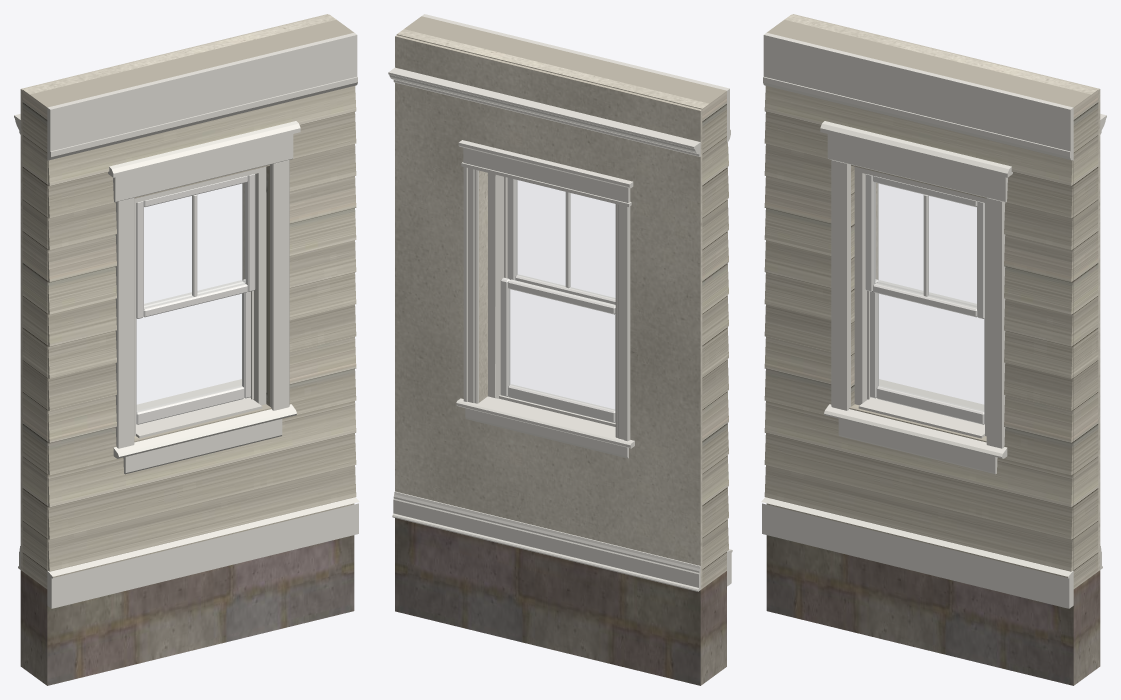
File: h_win0_ns.glb
3 views of the same model, side by side, from view 1: azimuth 30°, elevation 25°; view 2: azimuth 150°, elevation 25°; view 3: azimuth 330°, elevation 25° (orthographic).
Parts seen in each view (by area): view 1: h_win0_ns_siding, h_win0_ns_trim, h_win0_ns_stone, h_win0_ns_glass, folha_glass, h_win0_ns_sash, h_win0_ns_frame, h_win0_ns_plaster, folha_sash, molduras; view 2: h_win0_ns_plaster, h_win0_ns_stone, molduras, h_win0_ns_siding, folha_glass, h_win0_ns_glass, h_win0_ns_frame, folha_sash, h_win0_ns_sash, h_win0_ns_trim; view 3: h_win0_ns_siding, h_win0_ns_trim, h_win0_ns_stone, h_win0_ns_glass, folha_glass, h_win0_ns_sash, h_win0_ns_frame, h_win0_ns_plaster, folha_sash, molduras.
Boxes of the visible parts, left/top/right/bottom form: h_win0_ns_siding: left=22, top=19, right=356, bottom=588; h_win0_ns_trim: left=47, top=32, right=359, bottom=608; h_win0_ns_stone: left=20, top=535, right=354, bottom=685; h_win0_ns_glass: left=144, top=183, right=246, bottom=307; folha_glass: left=137, top=294, right=242, bottom=411; h_win0_ns_sash: left=136, top=174, right=255, bottom=318; h_win0_ns_frame: left=134, top=166, right=266, bottom=436; h_win0_ns_plaster: left=20, top=14, right=335, bottom=570; folha_sash: left=136, top=279, right=250, bottom=424; molduras: left=14, top=114, right=243, bottom=569; h_win0_ns_plaster: left=395, top=29, right=708, bottom=589; h_win0_ns_stone: left=395, top=518, right=726, bottom=685; molduras: left=388, top=67, right=700, bottom=591; h_win0_ns_siding: left=396, top=16, right=728, bottom=588; folha_glass: left=509, top=289, right=614, bottom=409; h_win0_ns_glass: left=517, top=180, right=614, bottom=298; h_win0_ns_frame: left=488, top=173, right=615, bottom=426; folha_sash: left=500, top=277, right=615, bottom=422; h_win0_ns_sash: left=507, top=177, right=615, bottom=304; h_win0_ns_trim: left=422, top=14, right=732, bottom=586; h_win0_ns_siding: left=764, top=19, right=1098, bottom=588; h_win0_ns_trim: left=761, top=32, right=1073, bottom=608; h_win0_ns_stone: left=766, top=535, right=1100, bottom=685; h_win0_ns_glass: left=874, top=183, right=976, bottom=307; folha_glass: left=878, top=294, right=983, bottom=411; h_win0_ns_sash: left=865, top=174, right=984, bottom=318; h_win0_ns_frame: left=854, top=166, right=986, bottom=436; h_win0_ns_plaster: left=785, top=14, right=1100, bottom=570; folha_sash: left=870, top=279, right=984, bottom=424; molduras: left=877, top=114, right=1106, bottom=569.
Bounding box in the file's own units: 2 × 3.6 × 0.457.
Materials: 7 (3 with a texture image).
